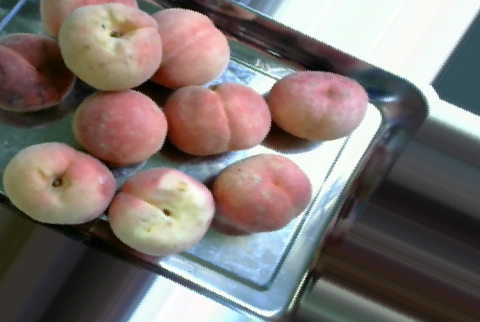Peach: (58, 1, 166, 92), (3, 141, 117, 227), (109, 165, 214, 258), (68, 88, 167, 164), (166, 83, 270, 155), (266, 70, 370, 141), (213, 156, 310, 228), (145, 6, 229, 88), (0, 30, 71, 113)
